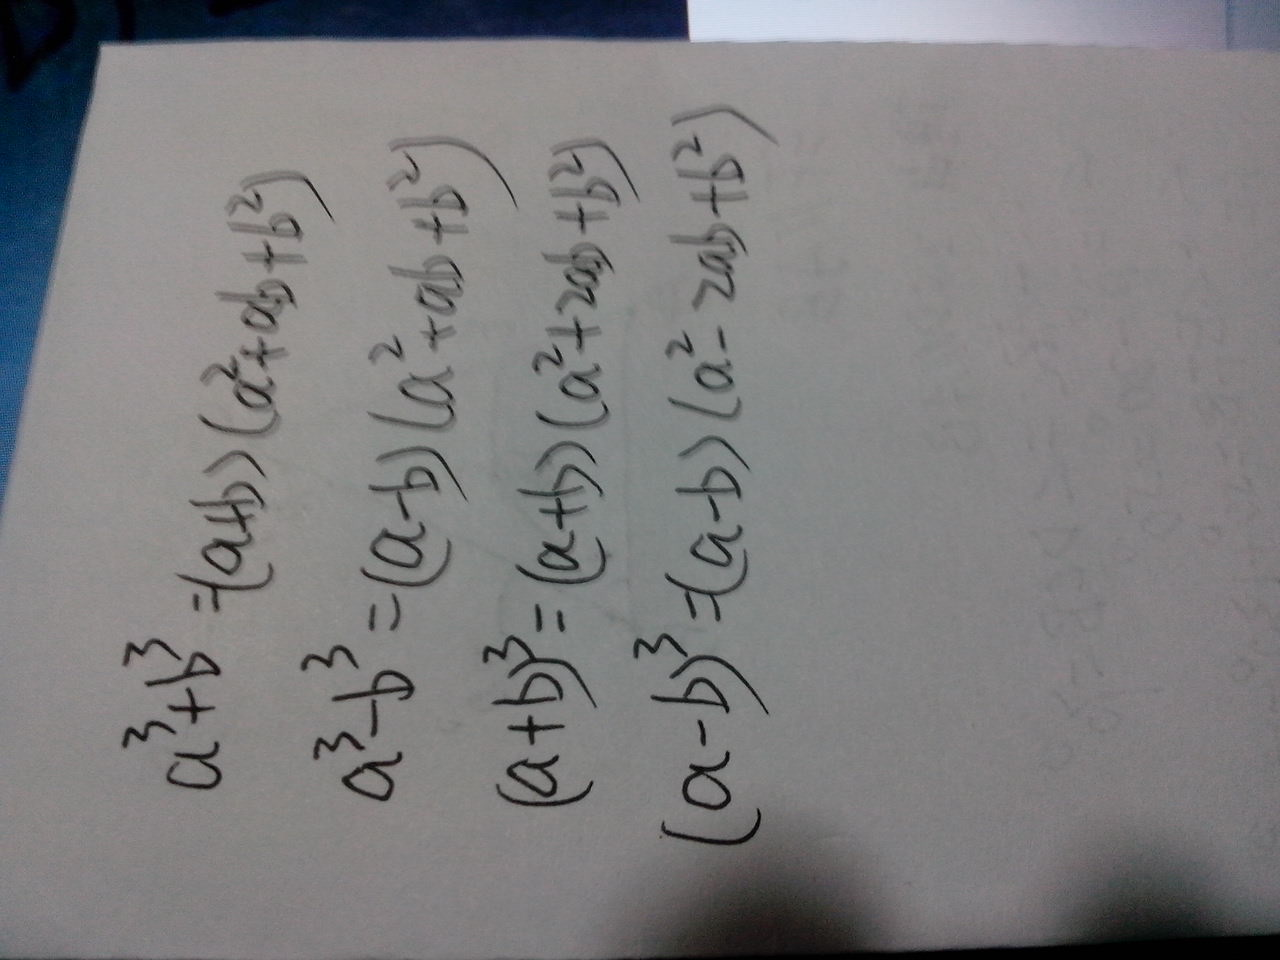cube: (623, 627, 688, 667), (476, 628, 538, 669), (290, 639, 361, 675), (107, 632, 179, 665), (298, 731, 372, 760), (105, 722, 203, 743)
